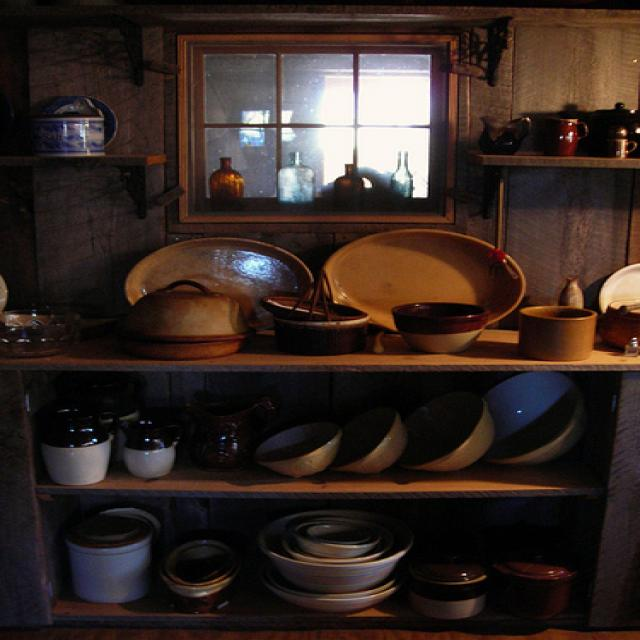Bottle: (40, 399, 142, 496), (188, 387, 278, 494), (125, 405, 177, 487), (557, 250, 607, 335), (206, 142, 255, 223), (592, 92, 640, 172), (280, 149, 320, 214), (333, 150, 374, 211), (393, 150, 423, 207)
Cup: (475, 108, 537, 167), (543, 104, 584, 160)
Table: (0, 310, 640, 640)
